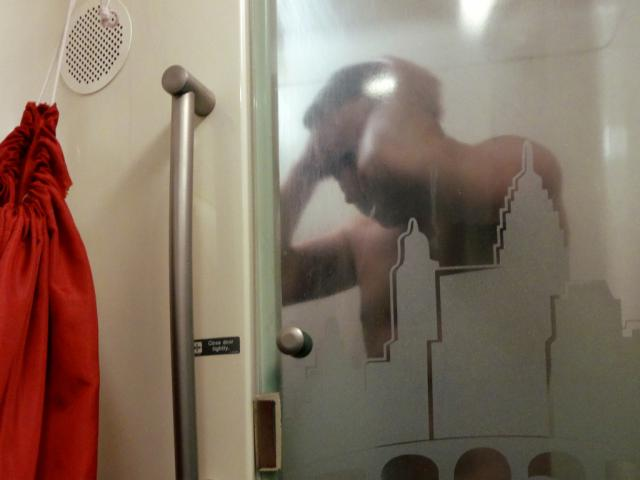Door-handle: (276, 324, 304, 356)
